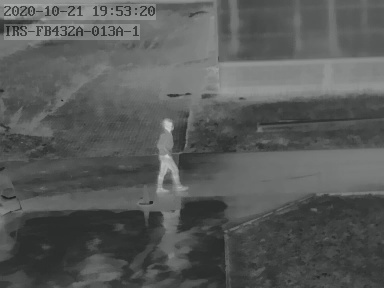person: (156, 118, 188, 192)
